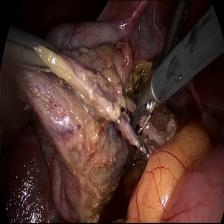Grasper: (2, 28, 64, 82), (159, 2, 187, 64)
Scissors: (119, 74, 168, 128)
